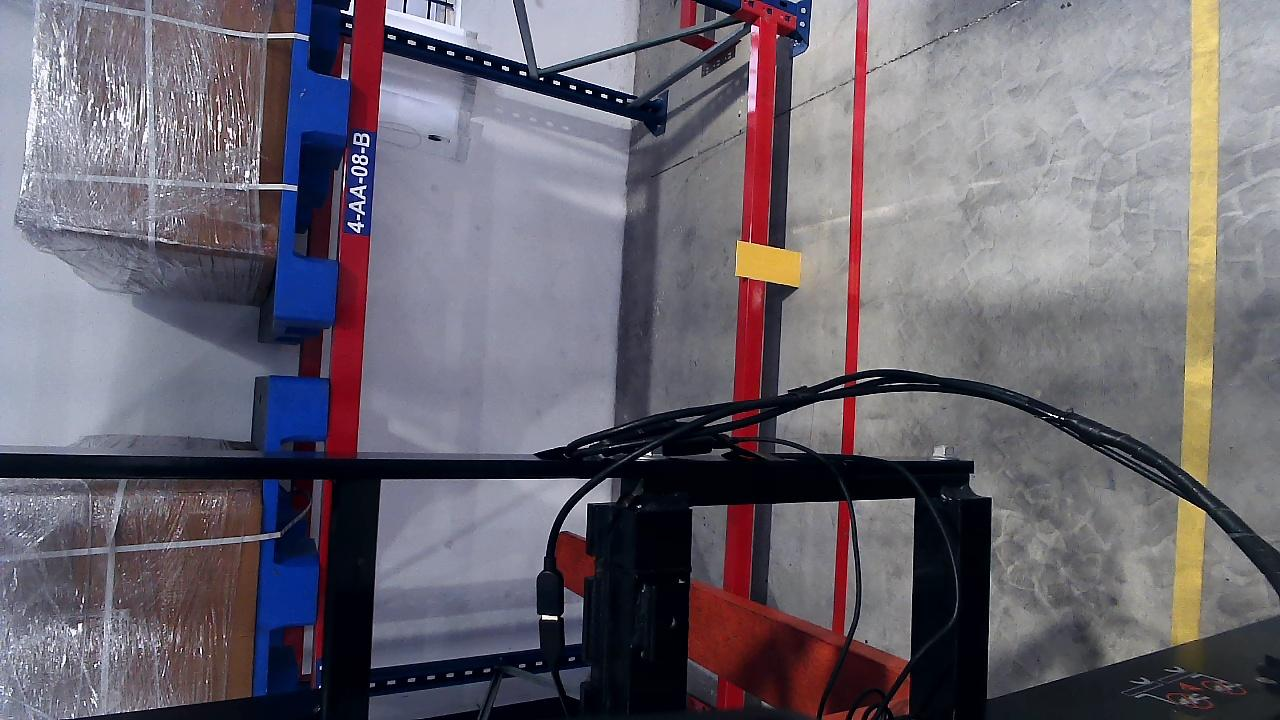h_rack: (725, 11, 780, 596), (325, 0, 391, 453)
orange_strip: (735, 241, 801, 287)
red_line: (830, 0, 868, 634)
small_pallet: (270, 0, 343, 319), (255, 374, 326, 692)
yellow_line: (1179, 3, 1221, 639)
